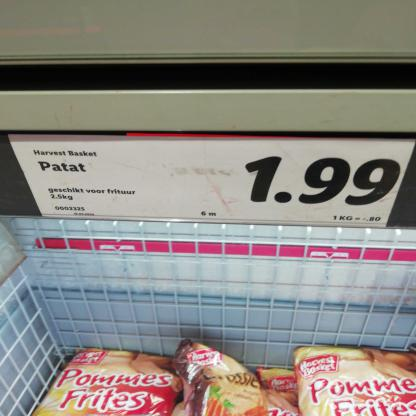prtg: (9, 134, 416, 229)
